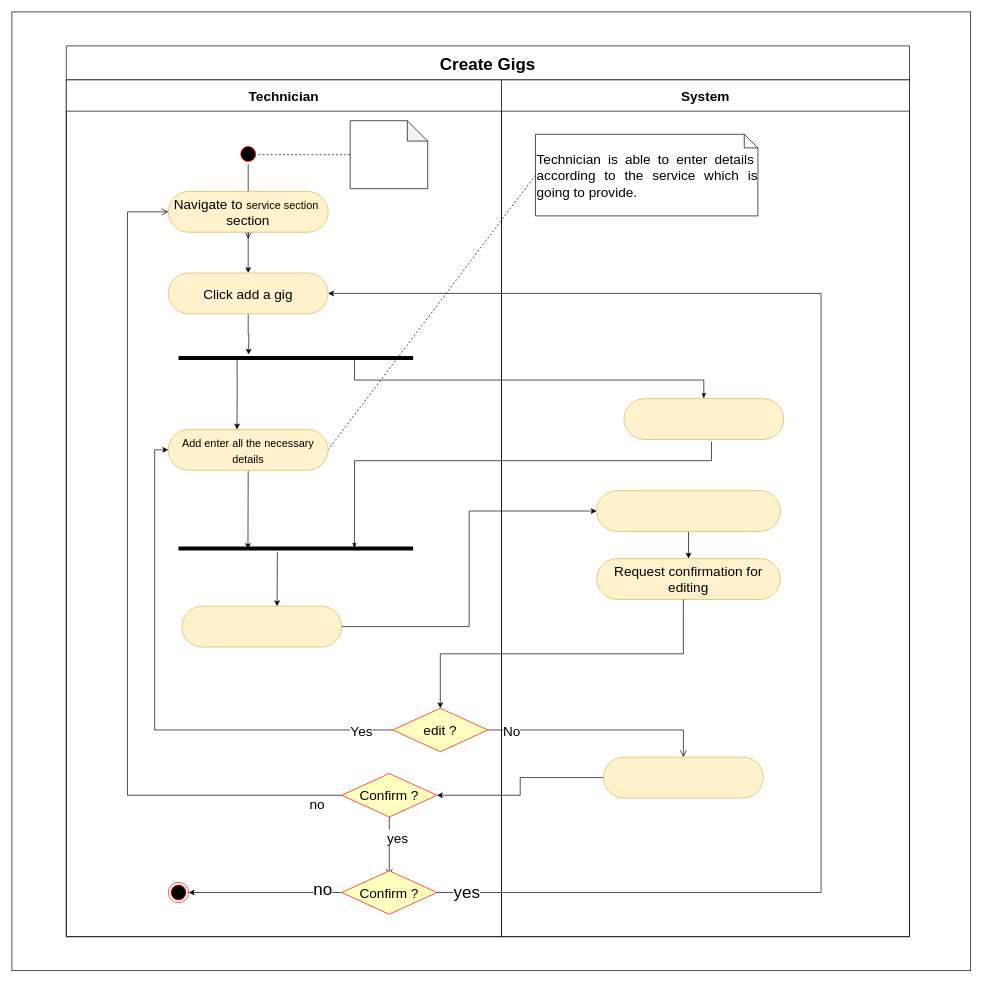
This 983x983 diagram has some shape labels left out. Here are the shapes that lost their labels. From the top down, the box of each, then its label:
(350, 120, 428, 189): Technician logged in
(623, 398, 784, 439): Check correctness of the details
(596, 490, 780, 531): Show preview of entered data
(181, 606, 342, 647): Submit details
(603, 756, 763, 798): Request confirmation for Submission
